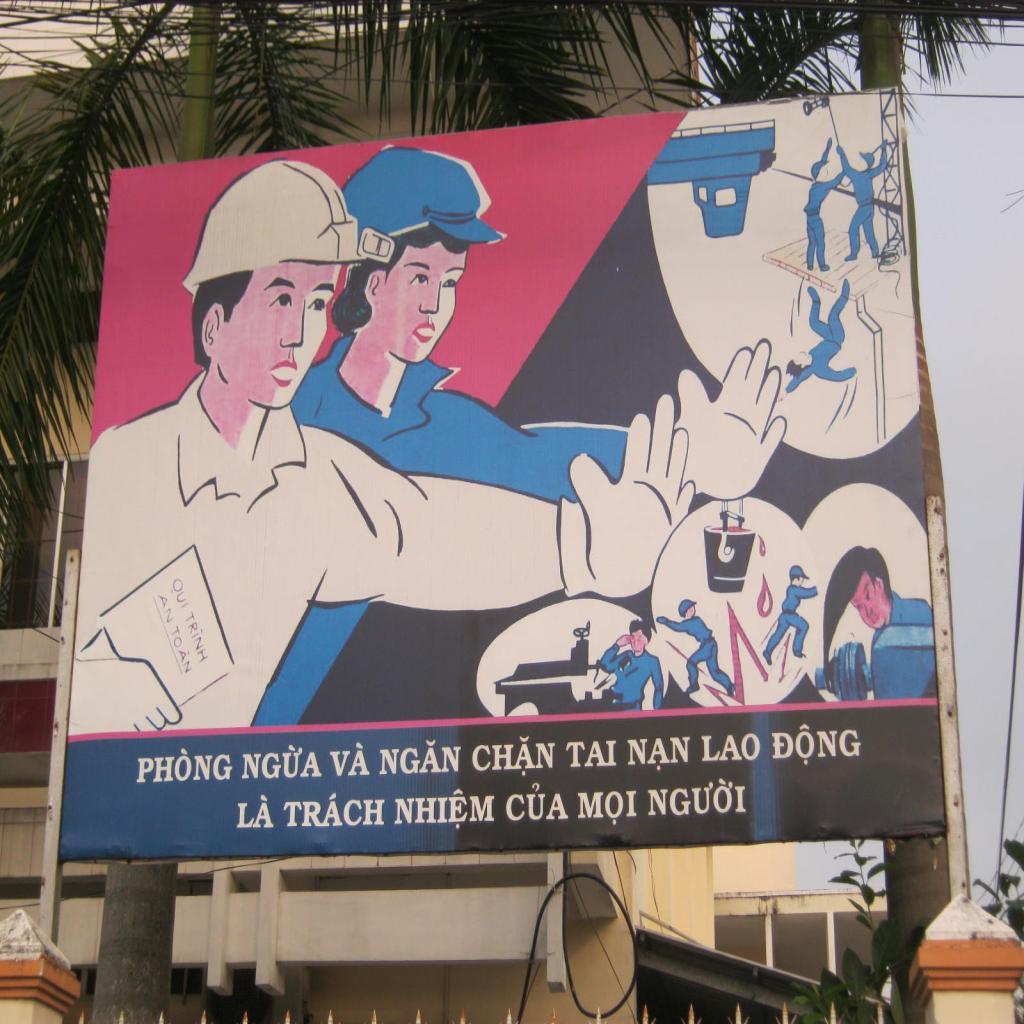text: (392, 788, 496, 834), (770, 721, 864, 767), (135, 746, 235, 785), (282, 792, 387, 828), (471, 735, 557, 778), (378, 737, 462, 777), (239, 743, 324, 781), (504, 782, 572, 822), (626, 735, 692, 775), (576, 788, 639, 827), (700, 731, 762, 764), (564, 738, 619, 771), (183, 607, 213, 667), (326, 739, 372, 778), (235, 793, 276, 830), (168, 623, 196, 676), (168, 574, 192, 613), (156, 590, 176, 626)
